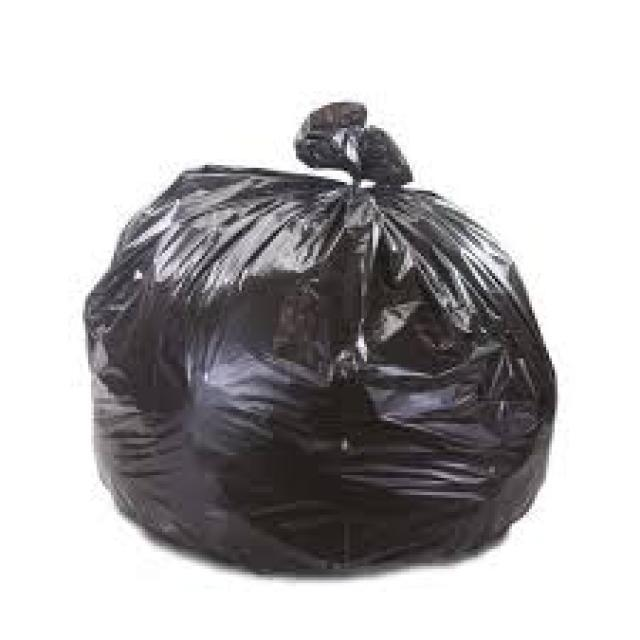Trashbag: (79, 156, 567, 583)
